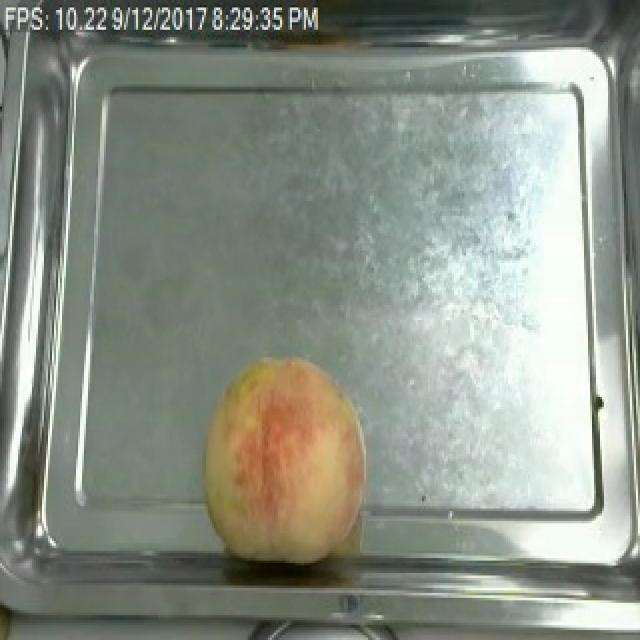Fruit: (194, 347, 378, 571)
